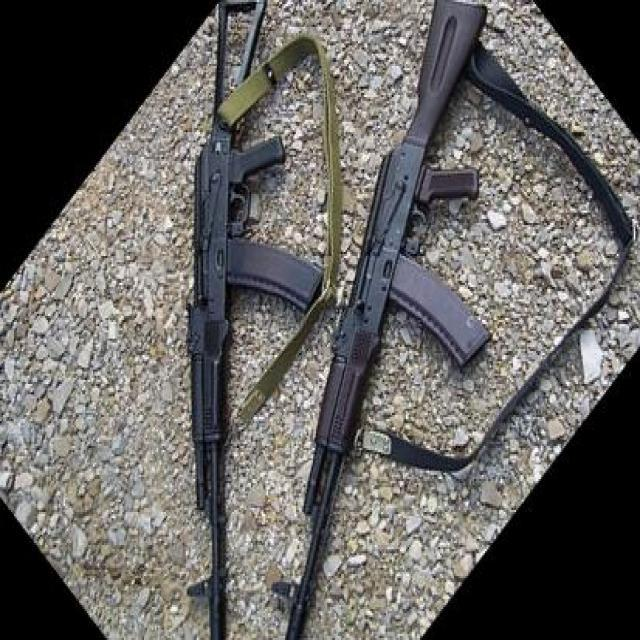weapon: (268, 0, 492, 640), (186, 0, 326, 640)
